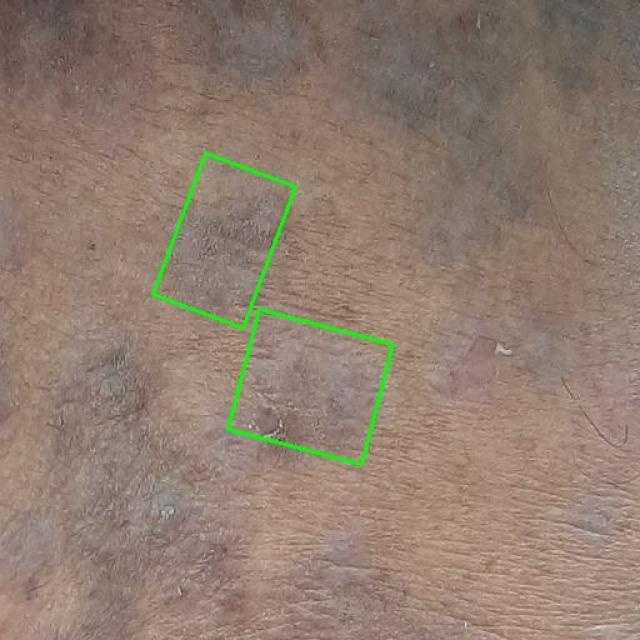Contact Dermatitis: (228, 309, 393, 464), (153, 153, 296, 328)
